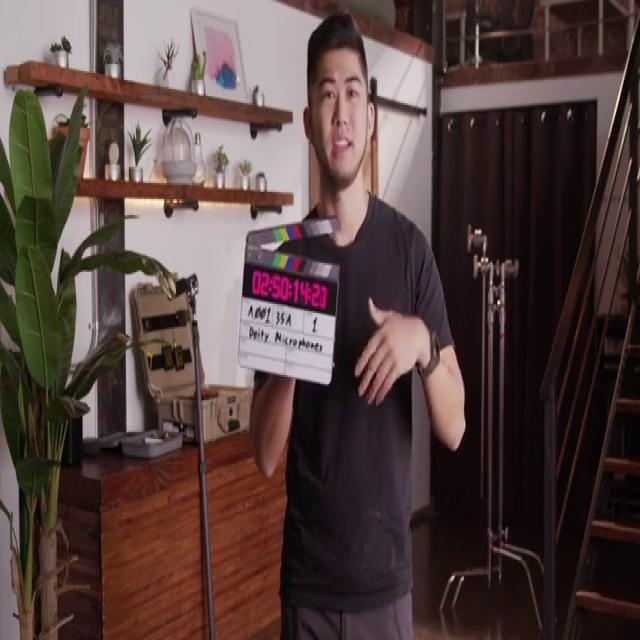Clapperboard: (239, 215, 340, 386)
